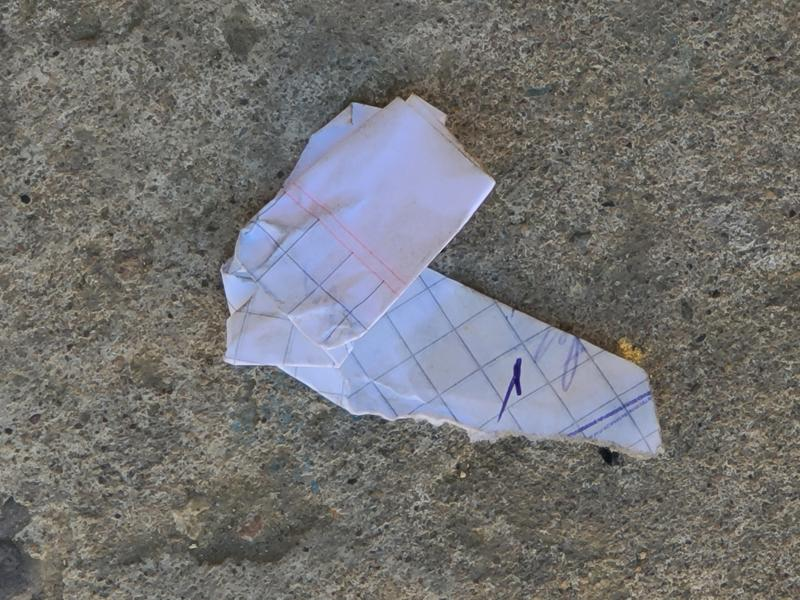papel: (220, 96, 665, 458)
